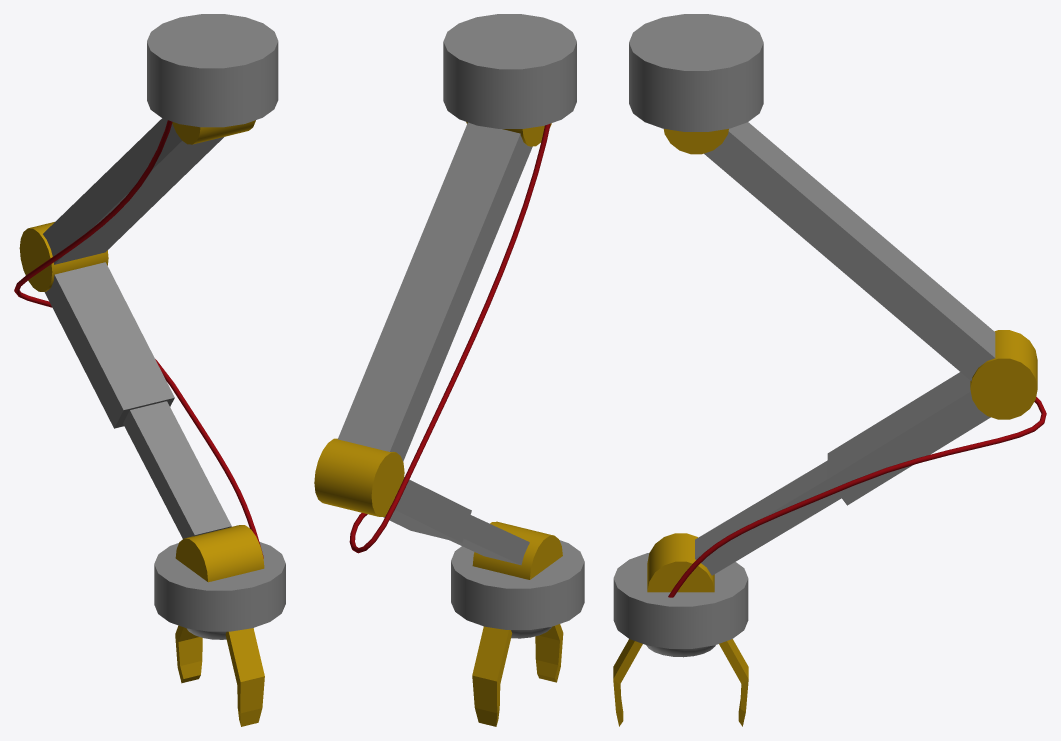
Rendered from ramie.fbx.
The picture shows the model from 3 angles, left to right: view 1: azimuth 30°, elevation 25°; view 2: azimuth 150°, elevation 25°; view 3: azimuth 270°, elevation 25°; orthographic projection. The views are drawn at different scales.
Visible parts, largest first — view 1: ramie_2part, ramie_base, ramie_pillersBase, ramie_1part, ramie_cabble, ramie_pillers2, ramie_pillers1; view 2: ramie_1part, ramie_base, ramie_pillersBase, ramie_2part, ramie_cabble, ramie_pillers1, ramie_pillers2; view 3: ramie_1part, ramie_2part, ramie_base, ramie_pillersBase, ramie_cabble, ramie_pillers1, ramie_pillers2.
Boxes of the visible parts, x1,y1,x2,y2 form: ramie_2part: (19, 222, 231, 538); ramie_base: (147, 14, 278, 127); ramie_pillersBase: (154, 525, 285, 639); ramie_1part: (43, 118, 255, 264); ramie_cabble: (14, 120, 263, 558); ramie_pillers2: (225, 628, 264, 726); ramie_pillers1: (175, 625, 202, 683); ramie_1part: (338, 122, 551, 461); ramie_base: (443, 14, 576, 128); ramie_pillersBase: (451, 521, 584, 638); ramie_2part: (314, 438, 529, 565); ramie_cabble: (349, 123, 550, 553); ramie_pillers1: (472, 626, 512, 726); ramie_pillers2: (535, 624, 563, 682); ramie_1part: (663, 122, 995, 381); ramie_2part: (695, 330, 1037, 575); ramie_base: (629, 14, 763, 131); ramie_pillersBase: (613, 533, 748, 657); ramie_cabble: (668, 397, 1046, 597); ramie_pillers1: (719, 639, 748, 726); ramie_pillers2: (613, 639, 642, 726).
Size of the model in its own units: 322 by 100 by 557.
